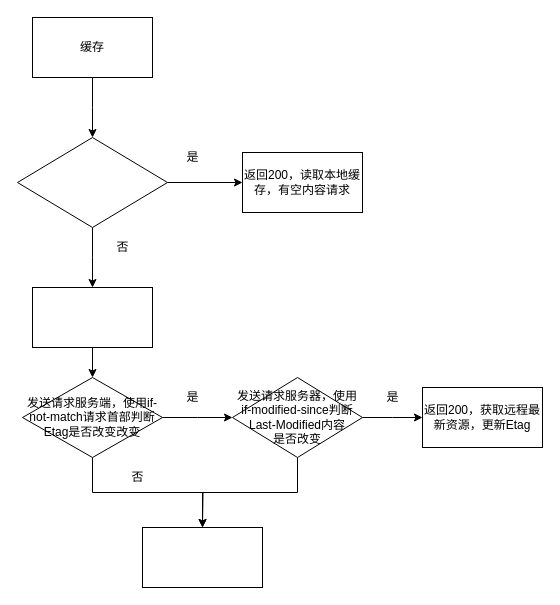
Image size: 560x605. Some labels were removed from this diagram. Each missing label, with the box of its shape:
协商缓存: (32, 286, 152, 348)
是否强缓存 cache-control expires (cache-control优先): (16, 136, 168, 228)
返回304，读取本地缓存: (142, 526, 262, 588)
